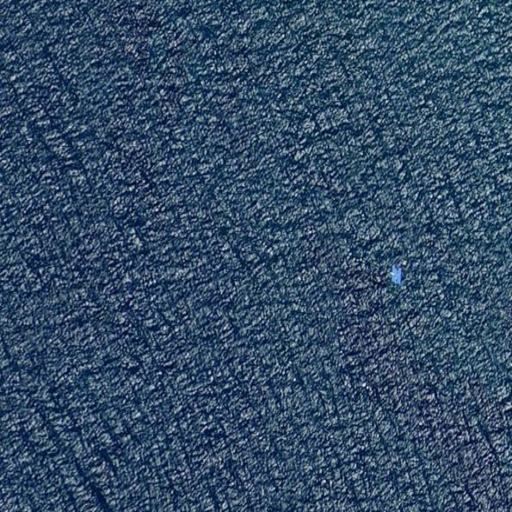ship: (391, 264, 402, 288)
